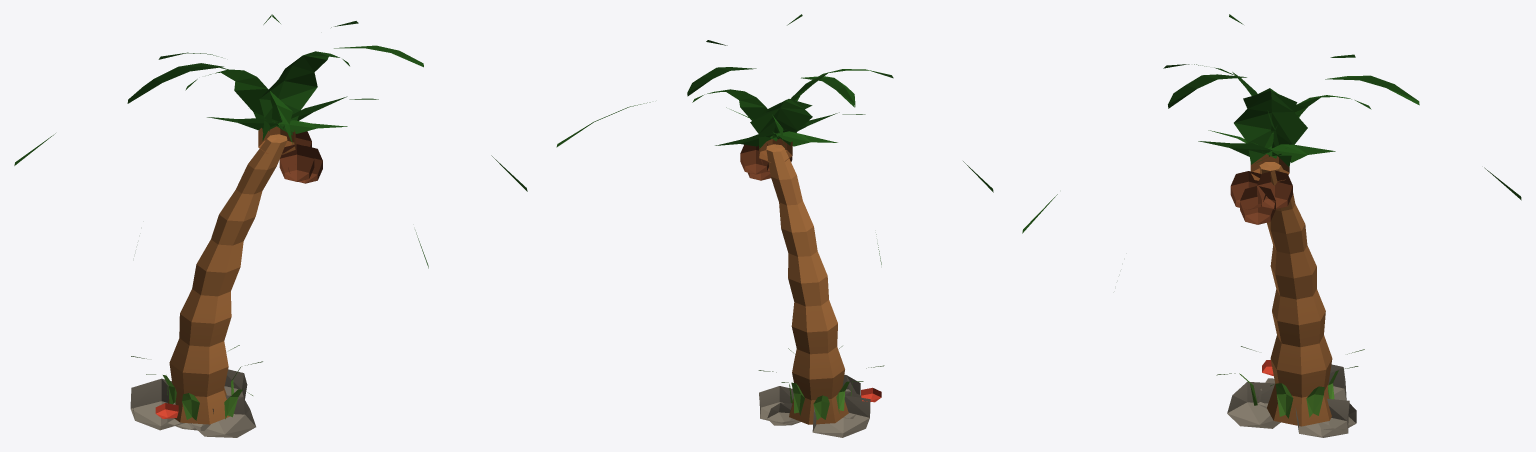
Rendered from palm.glb.
The picture shows the model from 3 angles, left to right: view 1: azimuth 30°, elevation 25°; view 2: azimuth 150°, elevation 25°; view 3: azimuth 270°, elevation 25°; orthographic projection. The views are drawn at different scales.
Parts seen in each view (by area): view 1: palm; view 2: palm; view 3: palm.
Part boxes in pixels (x1,y1,x2,y2): palm: (14,14,527,437); palm: (556,14,993,437); palm: (1022,14,1521,437).
Bounding box in the file's own units: 6.02 × 5.72 × 6.48.
